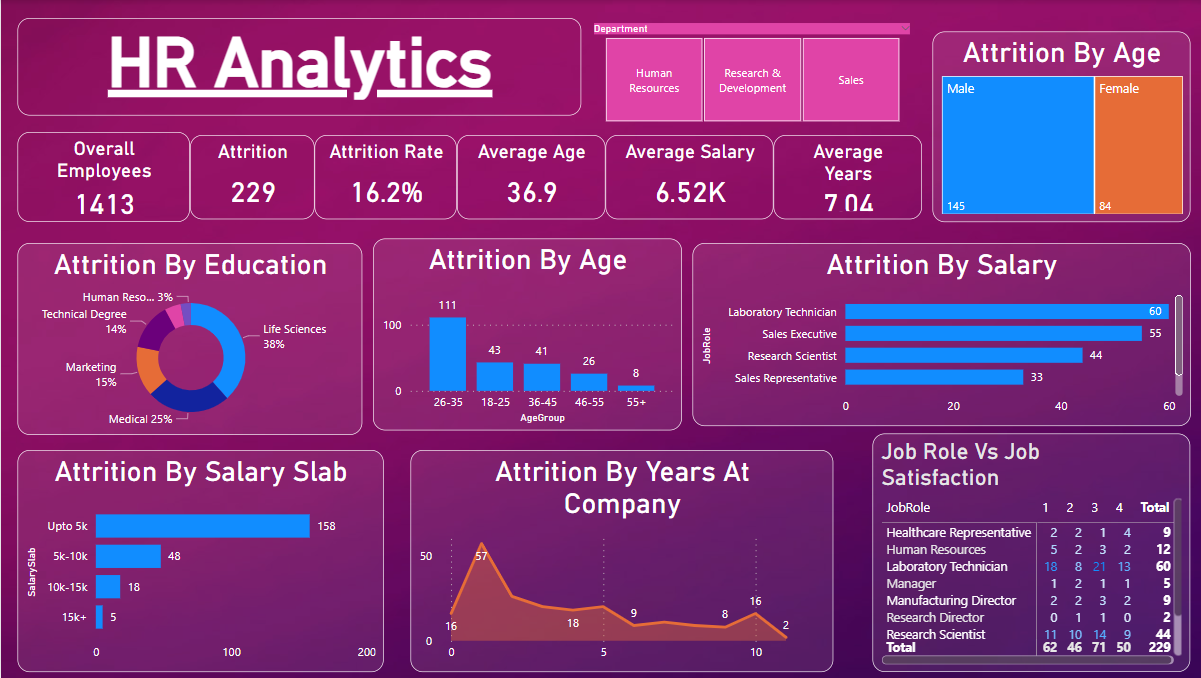

The dashboard page shown, as its layout file describes it:
{"tool":"powerbi","page":{"name":"Page 1","canvas":[1280,720],"ordinal":0},"visuals":[{"type":"card","title":"Overall Employees","fields":{"Values":["CountNonNull(HR_Analytics.EmpID)"]},"box":[17.5,139.9,182.8,95.4],"z":0},{"type":"card","title":"Attrition","fields":{"Values":["Sum(HR_Analytics.AtrritionCount)"]},"box":[200.3,143,131.9,89],"z":1000},{"type":"card","title":"Average Age","fields":{"Values":["Avg(HR_Analytics.Age)"]},"box":[483.2,143,157.4,89],"z":2000},{"type":"card","title":"Average Salary","fields":{"Values":["Avg(HR_Analytics.MonthlyIncome)"]},"box":[640.5,143,178,89],"z":3000},{"type":"card","title":"Average Years","fields":{"Values":["Avg(HR_Analytics.YearsAtCompany)"]},"box":[818.5,143,157.4,89],"z":4000},{"type":"card","title":"Attrition Rate","fields":{"Values":["HR_Analytics.Attrtion_Rate"]},"box":[332.2,143,151,89],"z":5000},{"type":"donutChart","title":"Attrition By Education","fields":{"Y":["Sum(HR_Analytics.AtrritionCount)"],"Category":["HR_Analytics.EducationField"]},"box":[17.5,257.5,365.6,203.4],"z":6000},{"type":"columnChart","title":"Attrition By Age","fields":{"Category":["HR_Analytics.AgeGroup"],"Y":["Sum(HR_Analytics.AtrritionCount)"]},"box":[394.2,252.7,327.4,203.4],"z":7000},{"type":"barChart","title":"Attrition By Salary Slab","fields":{"Category":["HR_Analytics.SalarySlab"],"Y":["Sum(HR_Analytics.AtrritionCount)"]},"box":[17.5,476.8,387.8,235.2],"z":8000},{"type":"pivotTable","title":"Job Role Vs Job Satisfaction","fields":{"Rows":["HR_Analytics.JobRole"],"Columns":["HR_Analytics.JobSatisfaction"],"Values":["Sum(HR_Analytics.AtrritionCount)"]},"box":[923.4,459.3,337,252.7],"z":9000},{"type":"barChart","title":"Attrition By Salary","fields":{"Category":["HR_Analytics.JobRole"],"Y":["Sum(HR_Analytics.AtrritionCount)"]},"box":[732.7,257.5,527.7,193.9],"z":9001},{"type":"areaChart","title":"Attrition By Years At Company","fields":{"Category":["HR_Analytics.YearsAtCompany"],"Y":["Sum(HR_Analytics.AtrritionCount)"]},"box":[433.9,476.8,448.2,235.2],"z":9002},{"type":"treemap","title":"Attrition By Age","fields":{"Group":["HR_Analytics.Gender"],"Values":["Sum(HR_Analytics.AtrritionCount)"]},"box":[987,33.4,273.4,201.9],"z":9004},{"type":"card","title":"HR Analytics","fields":{"Values":["CountNonNull(HR_Analytics.EmpID)"]},"box":[17.5,19.1,597.6,103.3],"z":9005},{"type":"slicer","fields":{"Values":["HR_Analytics.Department"]},"box":[615.1,19.1,360.8,116],"z":9006}]}

Visuals, with their boxes in screenshot pixels (x1, y1, x2, y2), scaled from the page's 1280x720 canvas onto the 1201x678 screenshot:
"Overall Employees" card: l=16, t=132, r=188, b=222
"Attrition" card: l=188, t=135, r=312, b=218
"Average Age" card: l=453, t=135, r=601, b=218
"Average Salary" card: l=601, t=135, r=768, b=218
"Average Years" card: l=768, t=135, r=916, b=218
"Attrition Rate" card: l=312, t=135, r=453, b=218
"Attrition By Education" donutChart: l=16, t=242, r=359, b=434
"Attrition By Age" columnChart: l=370, t=238, r=677, b=429
"Attrition By Salary Slab" barChart: l=16, t=449, r=380, b=670
"Job Role Vs Job Satisfaction" pivotTable: l=866, t=433, r=1183, b=670
"Attrition By Salary" barChart: l=687, t=242, r=1183, b=425
"Attrition By Years At Company" areaChart: l=407, t=449, r=828, b=670
"Attrition By Age" treemap: l=926, t=31, r=1183, b=222
"HR Analytics" card: l=16, t=18, r=577, b=115
slicer - HR_Analytics.Department: l=577, t=18, r=916, b=127
